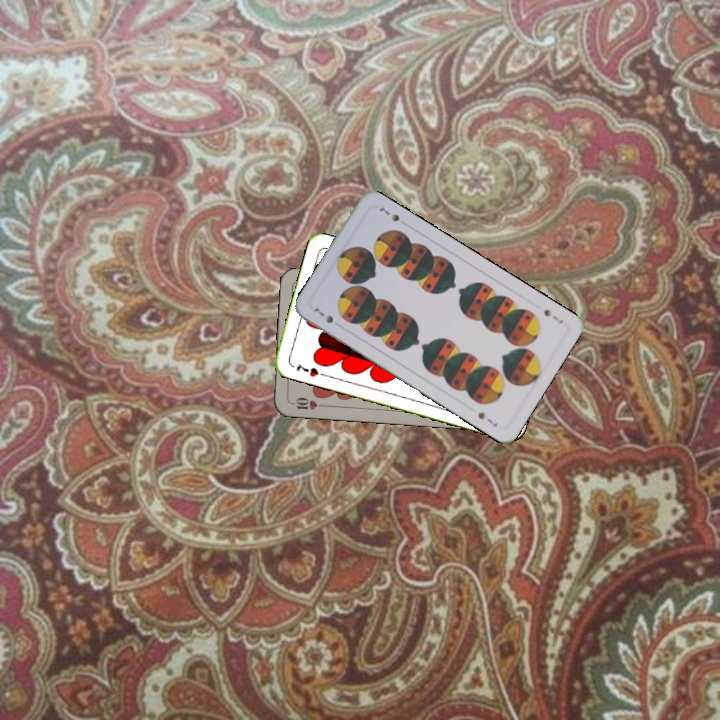H10: (286, 393, 327, 412)
H7: (292, 360, 321, 379)
S7: (309, 304, 336, 326), (539, 305, 566, 326)
